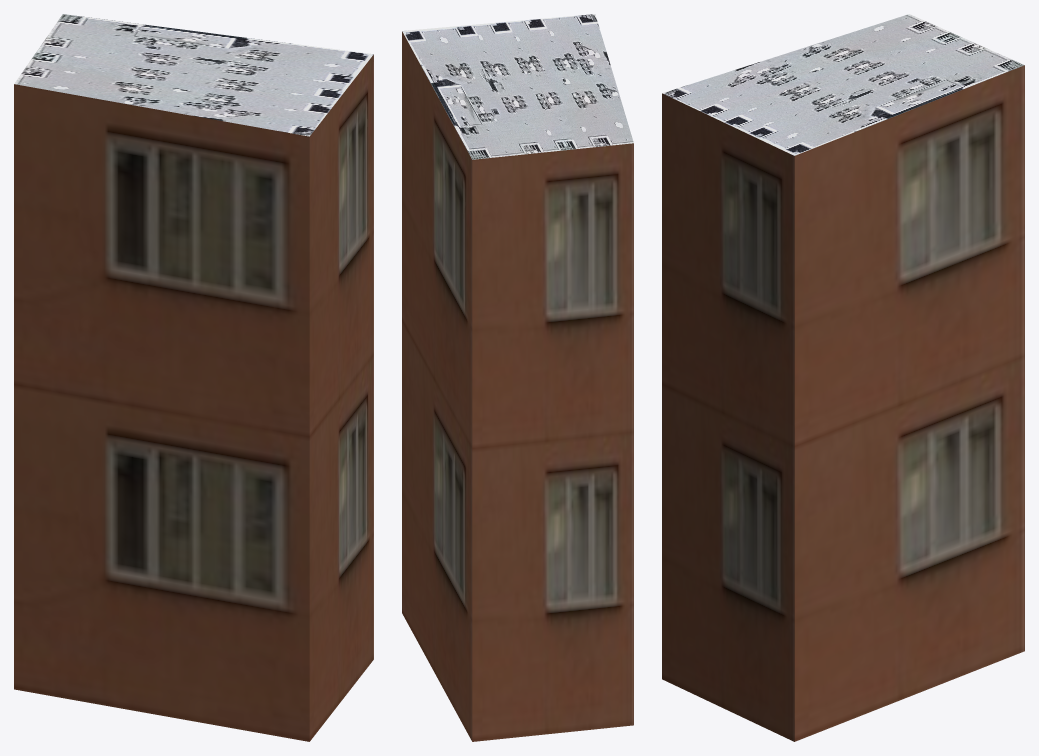
Rendered from ResTex__2805.fbx.
3 renders of one model, left to right at view 1: azimuth 30°, elevation 25°; view 2: azimuth 150°, elevation 25°; view 3: azimuth 270°, elevation 25°, orthographic. The views are drawn at different scales.
Parts seen in each view (by area): view 1: CityEngineMaterial_20_m, CityEngineMaterial_2_m; view 2: CityEngineMaterial_20_m, CityEngineMaterial_2_m; view 3: CityEngineMaterial_20_m, CityEngineMaterial_2_m.
Boxes of the visible parts, x1,y1,x2,y2 form: CityEngineMaterial_20_m: (14, 54, 373, 741); CityEngineMaterial_2_m: (14, 14, 373, 136); CityEngineMaterial_20_m: (402, 31, 633, 741); CityEngineMaterial_2_m: (402, 14, 633, 159); CityEngineMaterial_20_m: (662, 65, 1024, 741); CityEngineMaterial_2_m: (662, 14, 1024, 155).
Size of the model in its own units: 3.12 by 6 by 3.37.
Materials: 2 (2 with a texture image).
